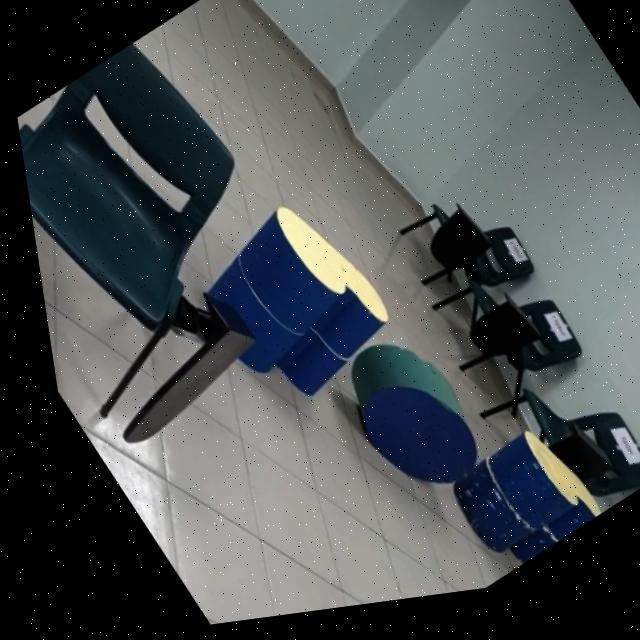sandalye: (15, 49, 229, 404), (421, 290, 567, 429), (466, 400, 638, 511), (390, 215, 523, 298)
